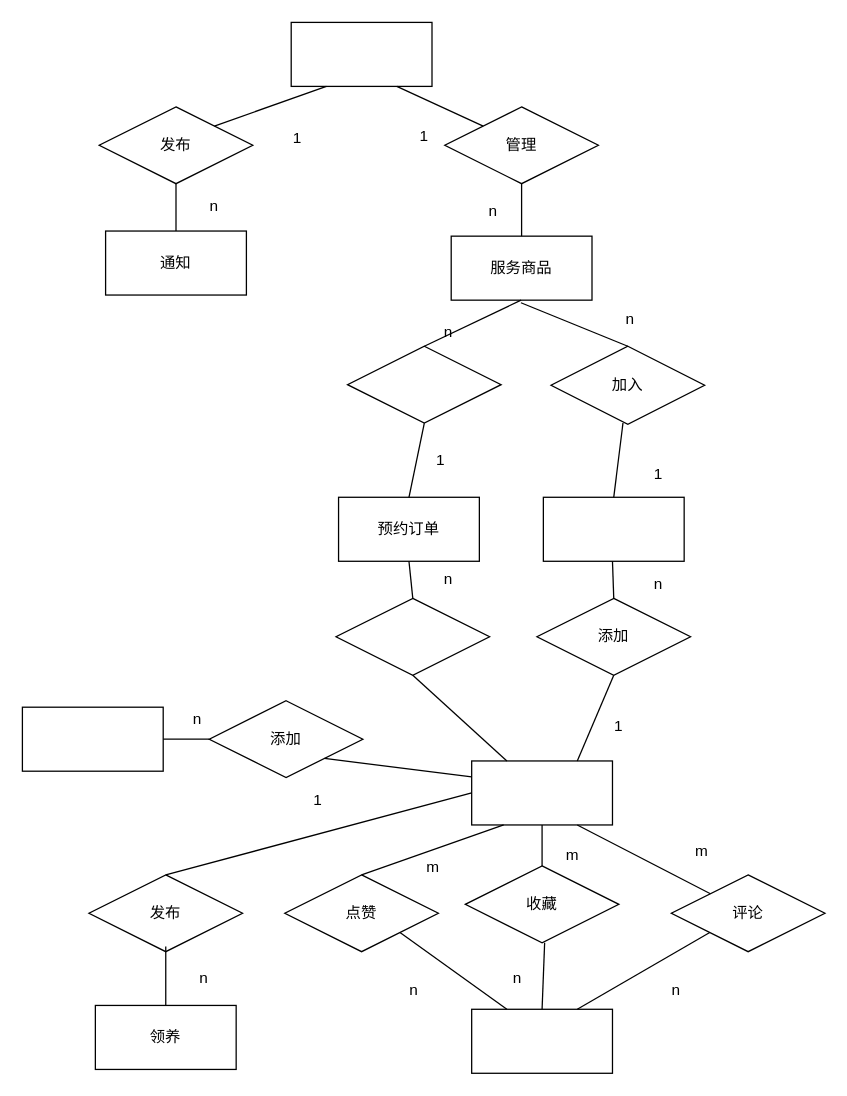
This 847x1096 diagram has some shape labels left out. Here are the shapes that lost their labels. From the top down, the centre of each, then its label:
At pixel 361 53: "管理员".
At pixel 423 384: "预约".
At pixel 613 528: "购物车".
At pixel 412 636: "发起".
At pixel 92 738: "宠物".
At pixel 541 792: "用户".
At pixel 541 1040: "帖子".
